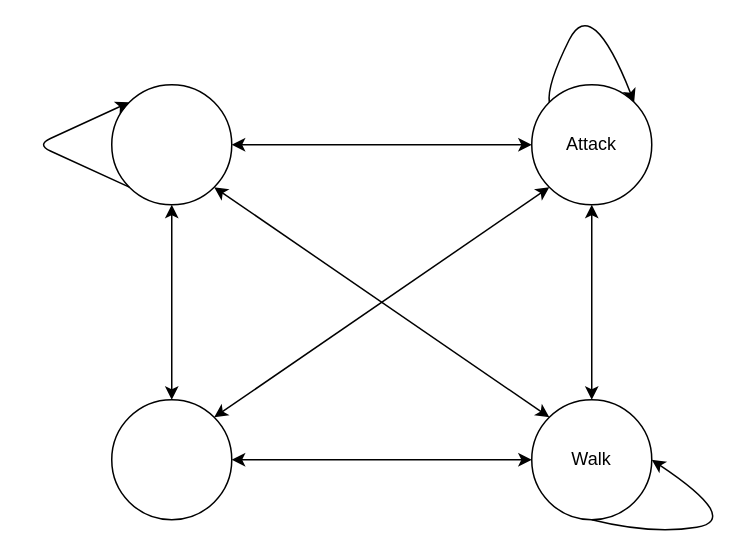
Some shapes in this 740 by 558 pixel diagram are drawn without their labels. Each missing label, with the box of its shape:
Damaged: (110, 398, 232, 520)
Idle: (110, 83, 232, 205)
